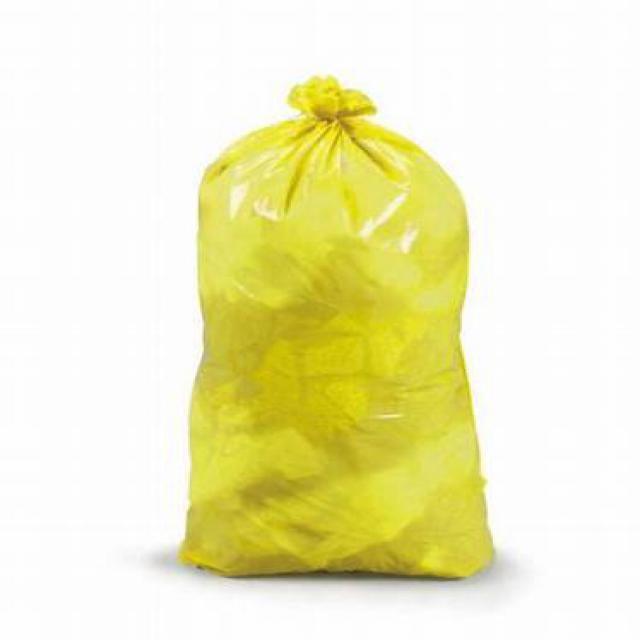waste: (182, 78, 502, 586)
